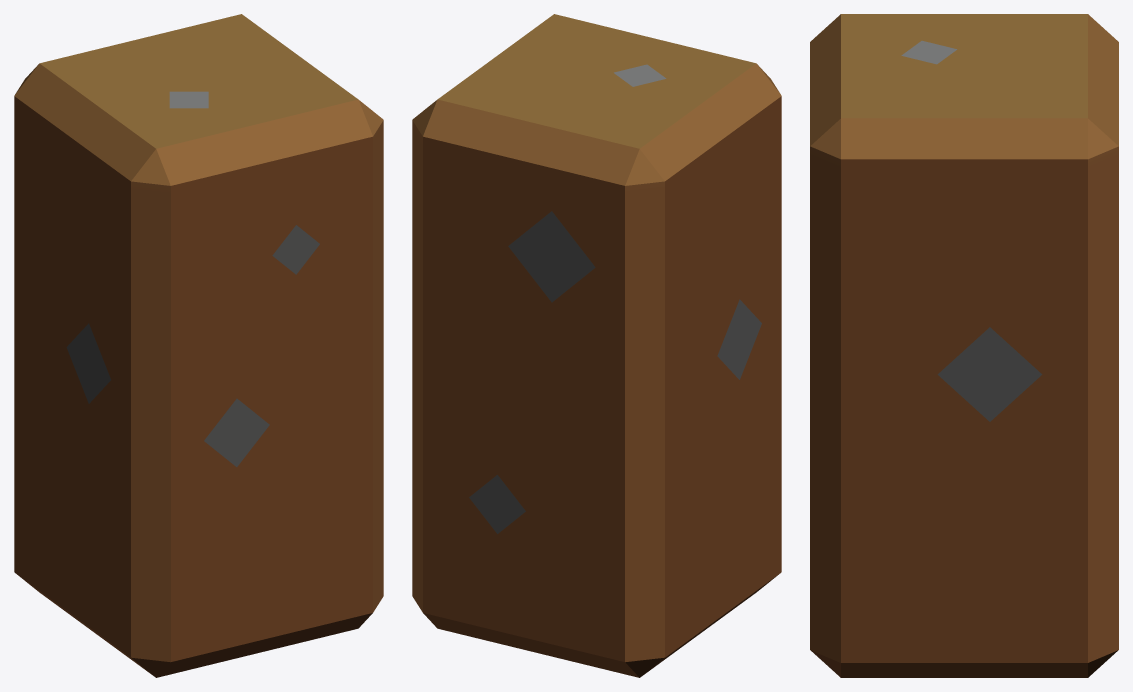
File: m_kub_dirt_vrick.FBX
3 views of the same model, side by side, from view 1: azimuth 30°, elevation 25°; view 2: azimuth 150°, elevation 25°; view 3: azimuth 270°, elevation 25° (orthographic). The views are drawn at different scales.
Visible parts, largest first — view 1: m_kub_dirt_vrick; view 2: m_kub_dirt_vrick; view 3: m_kub_dirt_vrick.
Part boxes in pixels (x1=…): m_kub_dirt_vrick: x1=14, y1=14, x2=383, y2=677; m_kub_dirt_vrick: x1=412, y1=14, x2=781, y2=677; m_kub_dirt_vrick: x1=810, y1=14, x2=1118, y2=677.
Bounding box in the file's own units: 1 × 2 × 1.
